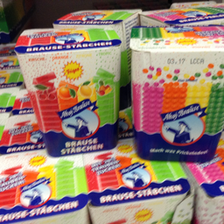candy: (11, 24, 123, 157), (130, 22, 224, 162)
